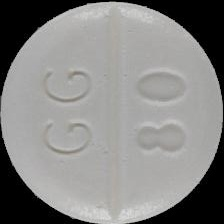0904-5798: (0, 0, 224, 224)
